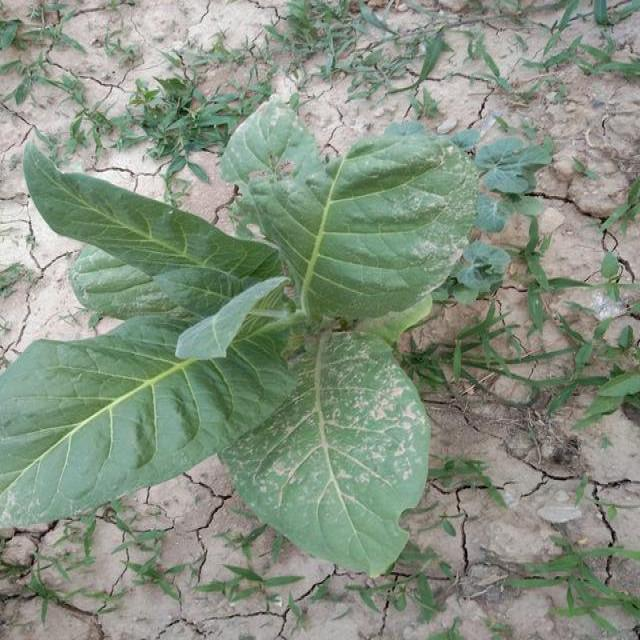crop: (0, 115, 494, 578)
